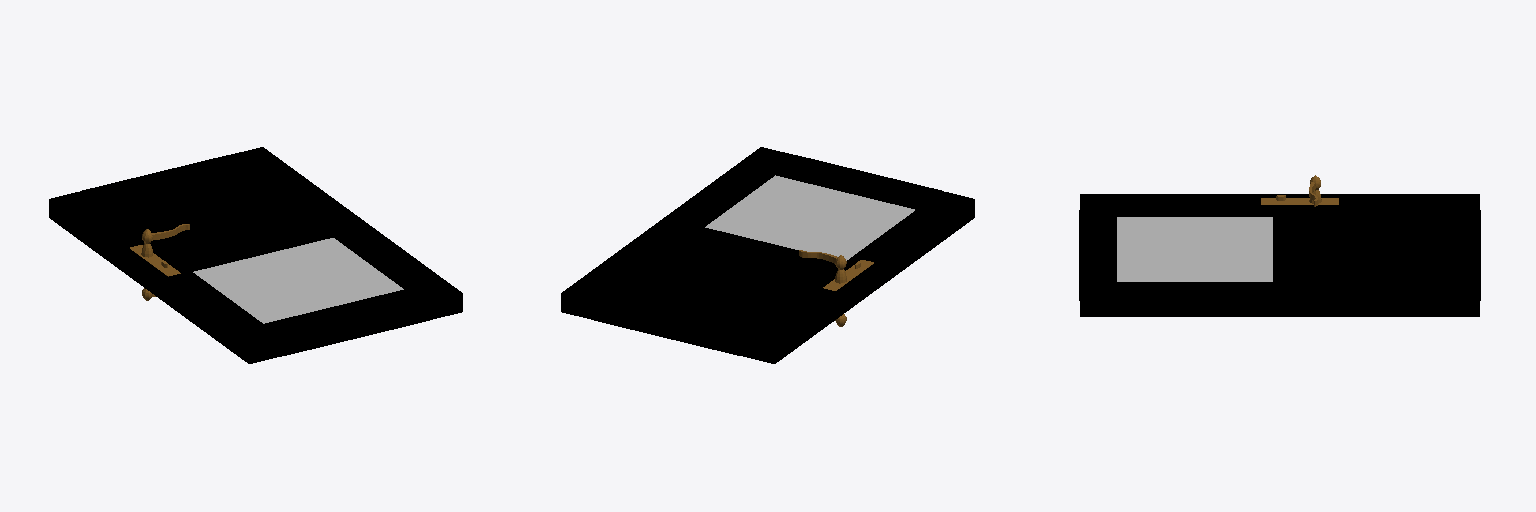
The model's file is door2.obj.
The picture shows the model from 3 angles: view 1: azimuth 30°, elevation 25°; view 2: azimuth 150°, elevation 25°; view 3: azimuth 270°, elevation 25°; orthographic projection.
Parts seen in each view (by area): view 1: Object01; view 2: Object01; view 3: Object01.
Boxes of the visible parts, x1,y1,x2,y2 form: Object01: [49, 147, 462, 363]; Object01: [561, 147, 974, 363]; Object01: [1079, 175, 1480, 316].
Size of the model in its own units: 72.82 by 23.62 by 118.